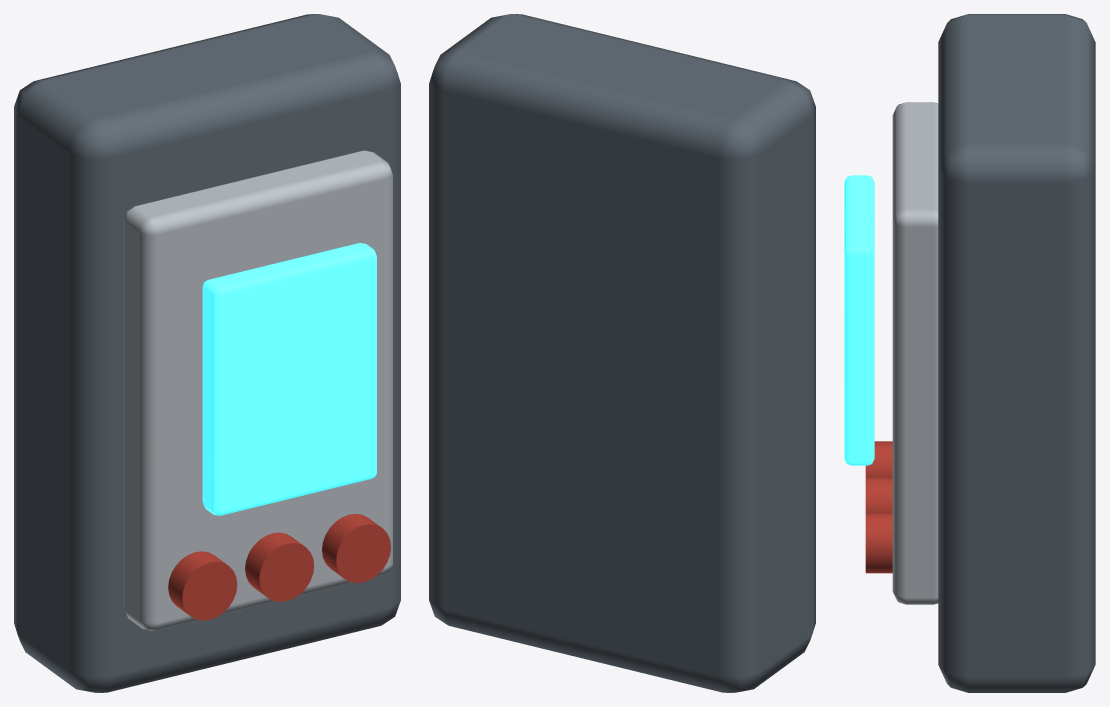
File: arena-shooter-map-kit-door-trigger-6cafc1d3__23129.glb
3 renders of one model, left to right at view 1: azimuth 30°, elevation 25°; view 2: azimuth 150°, elevation 25°; view 3: azimuth 270°, elevation 25°, orthographic. The views are drawn at different scales.
Visible parts, largest first — view 1: door-trigger; view 2: door-trigger; view 3: door-trigger.
Part boxes in pixels (x1,y1,x2,y2): door-trigger: (14,14,400,692); door-trigger: (429,14,815,692); door-trigger: (844,14,1095,692).
Size of the model in its own units: 0.3 by 0.5 by 0.2075.
